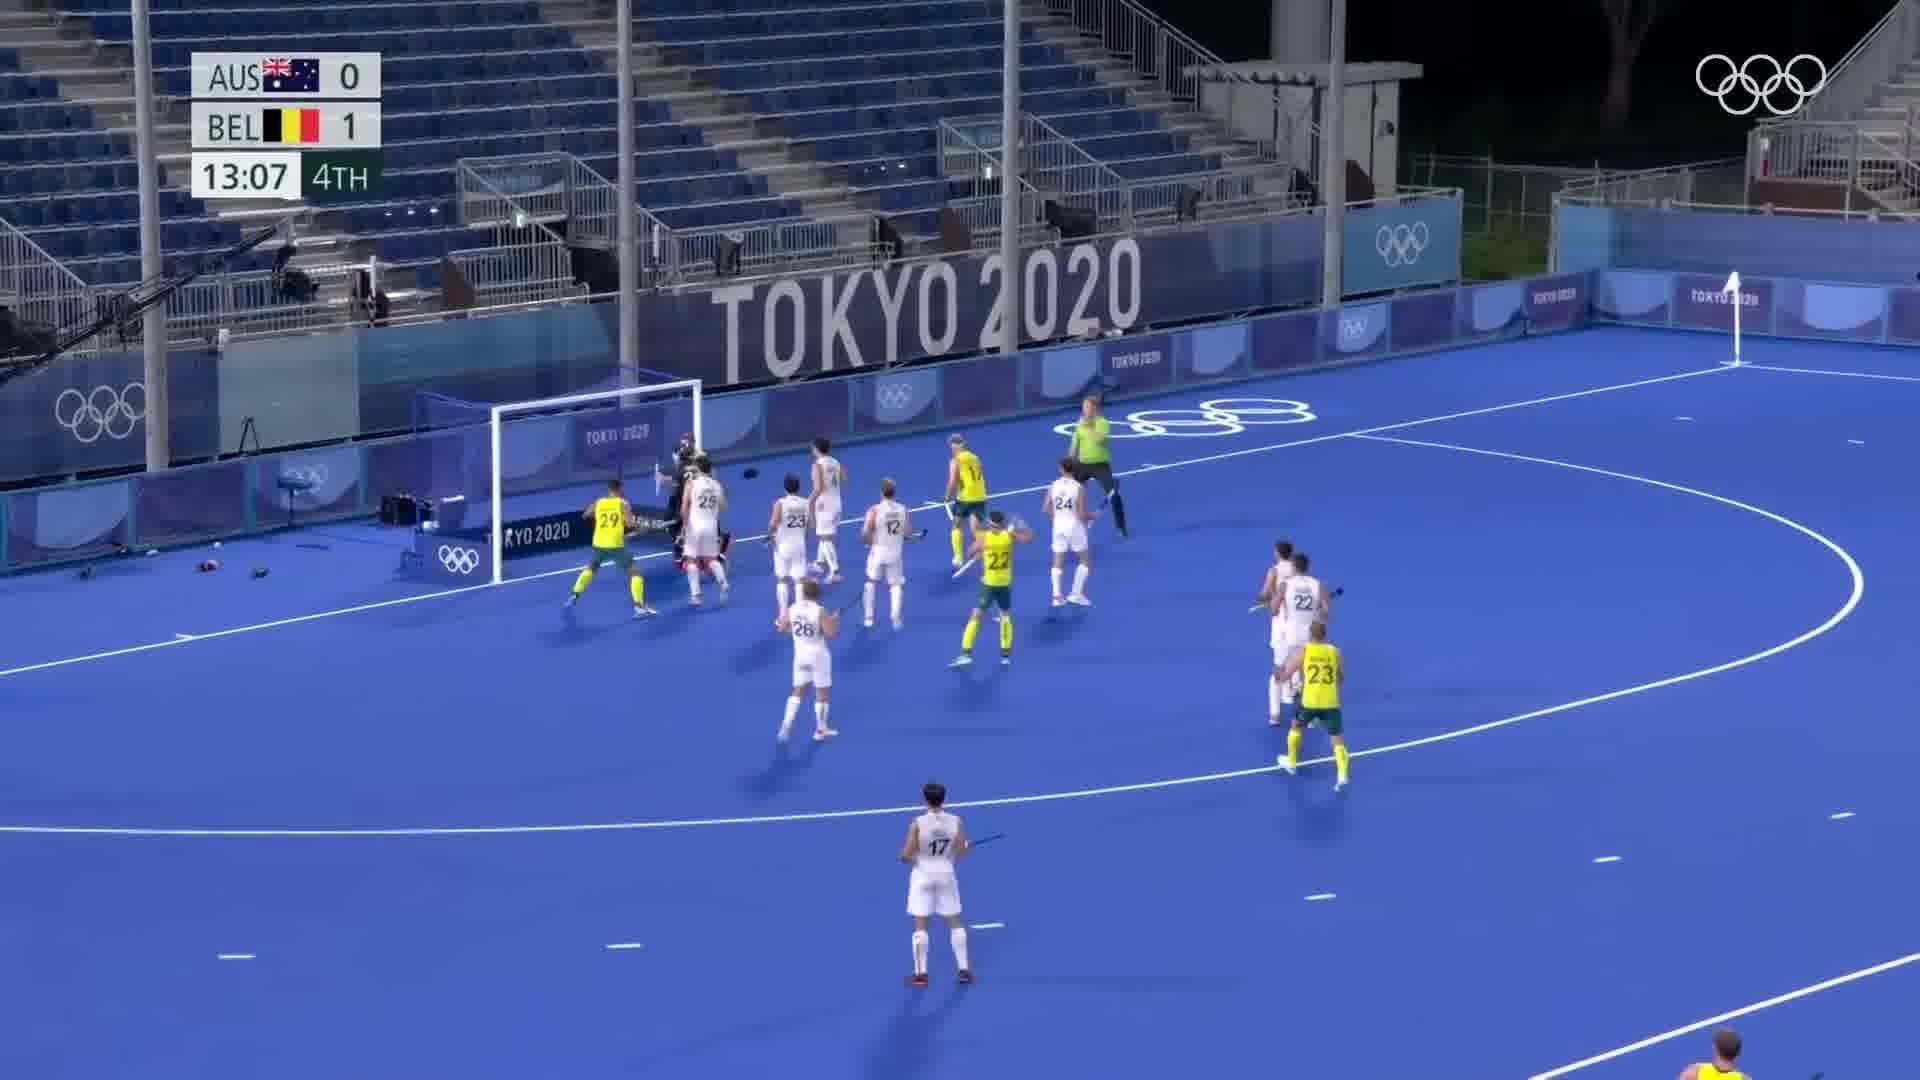ball: (505, 524, 516, 538)
